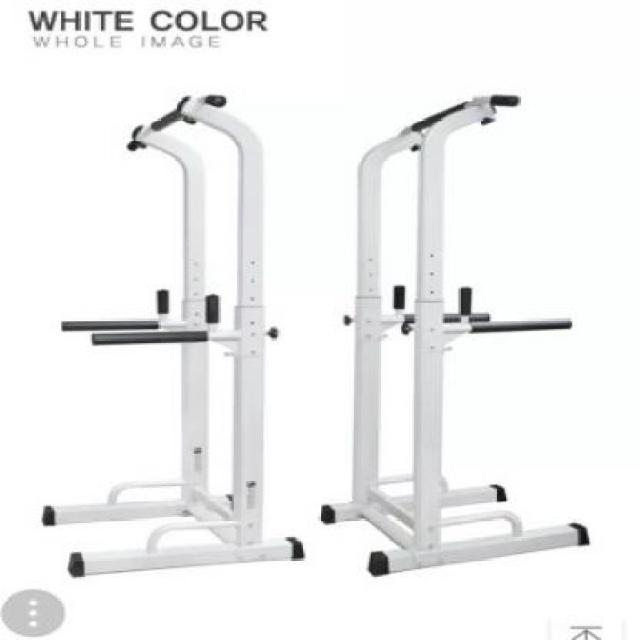chinning dipping: (320, 94, 592, 578), (42, 91, 304, 577)
